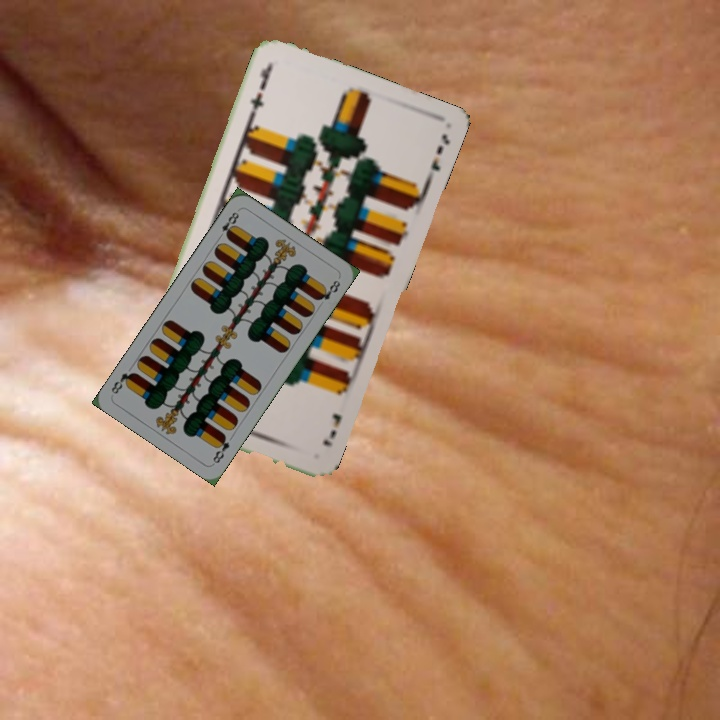E7: (245, 61, 275, 118), (319, 409, 344, 449)
E8: (214, 208, 242, 242), (209, 430, 232, 466)
